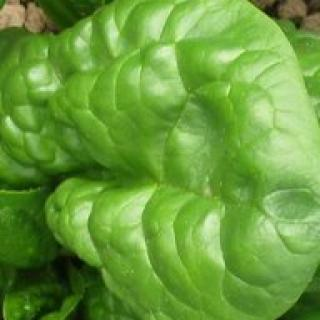spinach: (1, 0, 320, 320)
